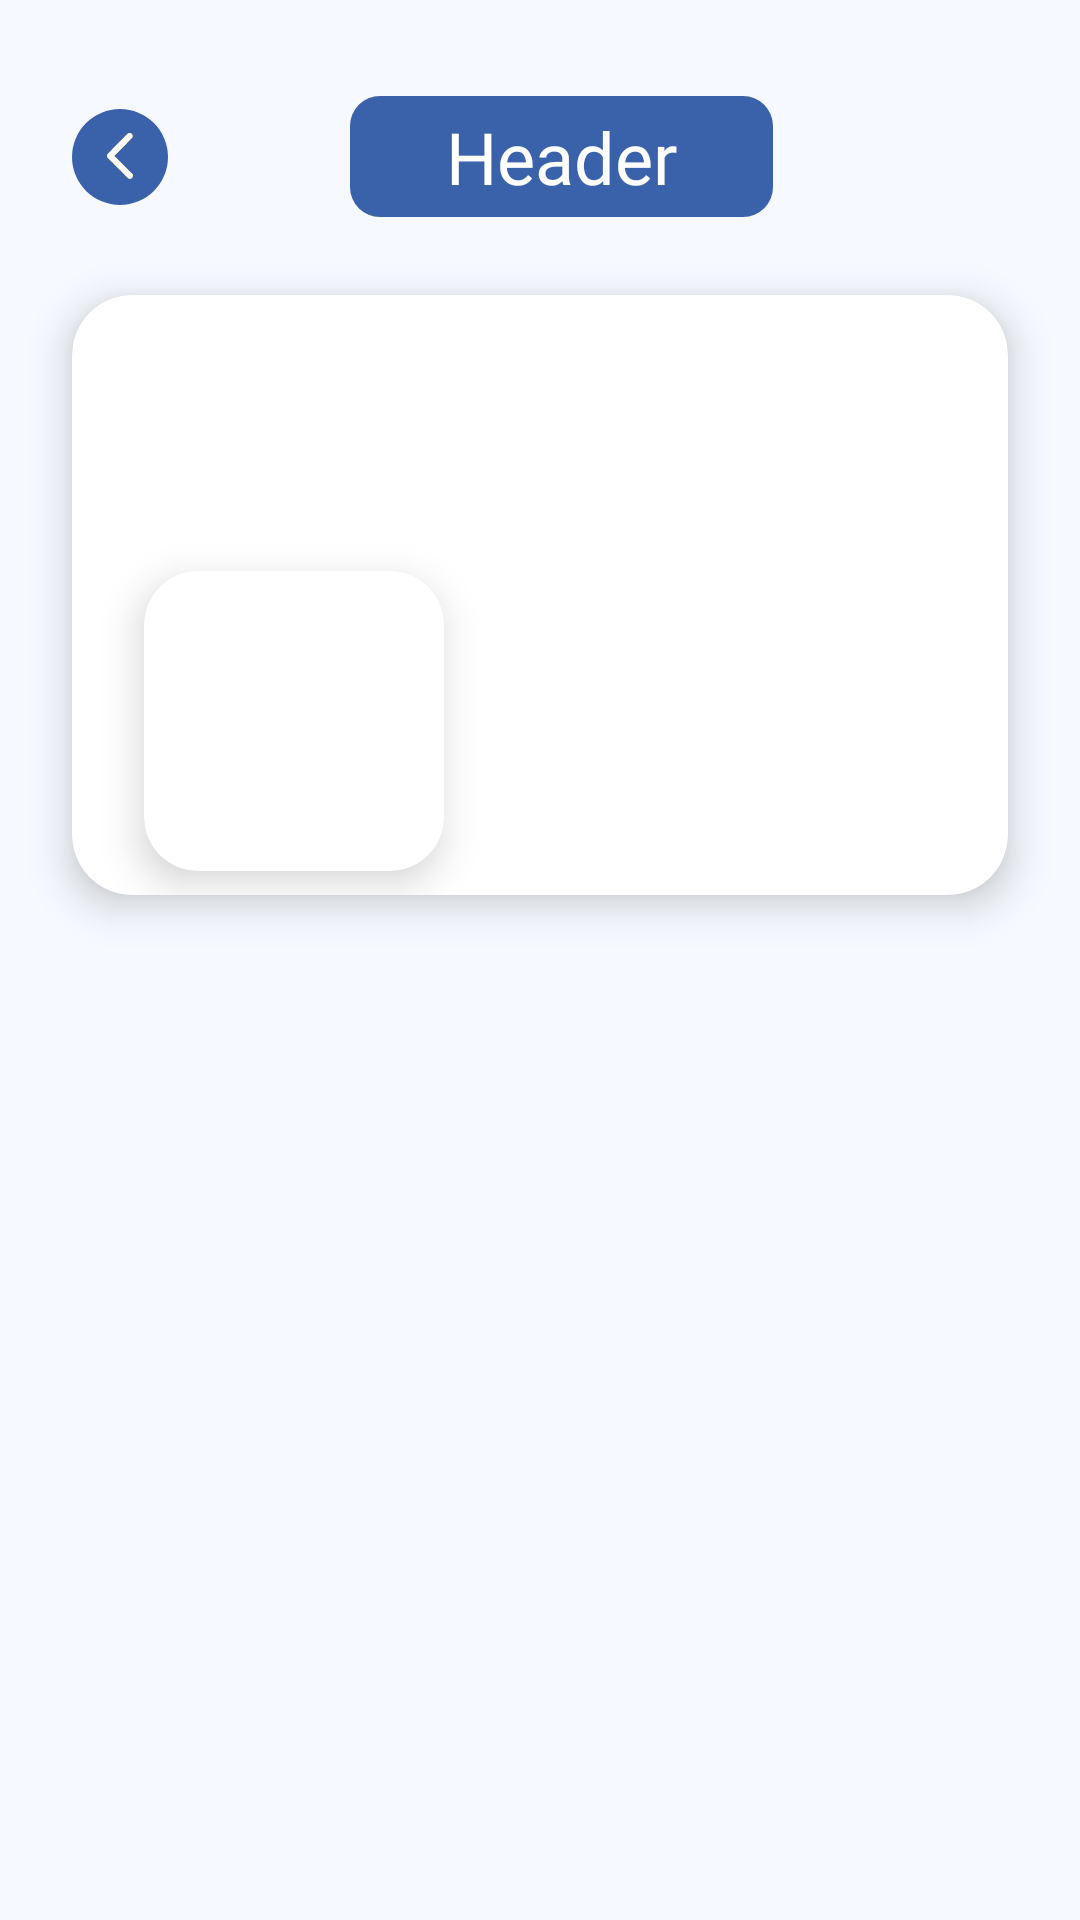

Icon click points for this 1080w x 1920h phone screenshot, format [x,y]:
back: [120,157]
